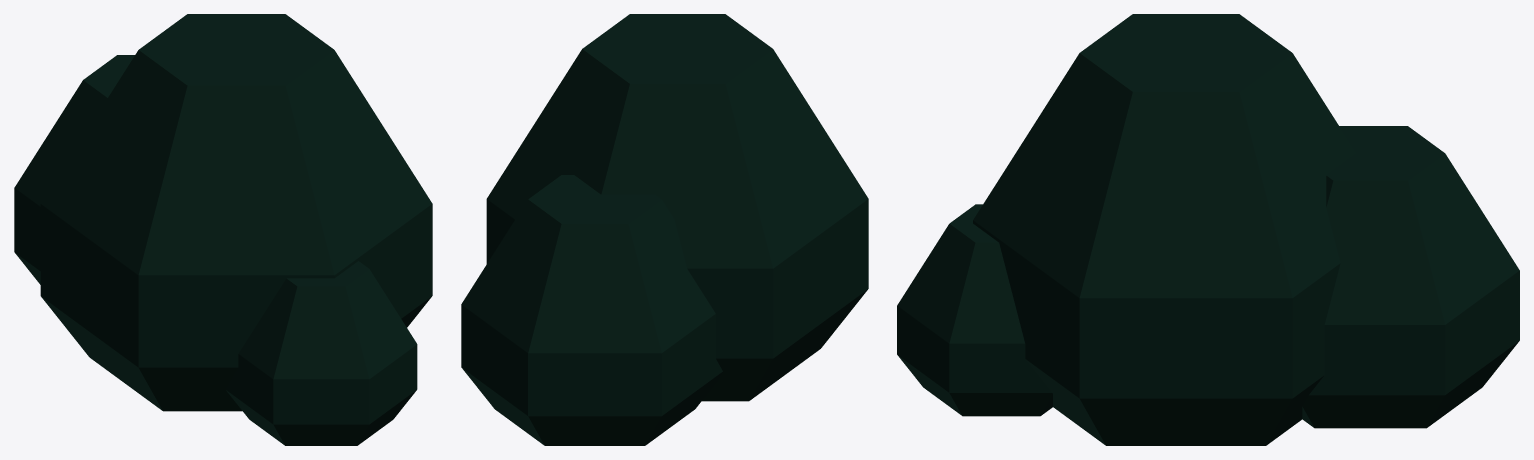
File: Bush1.fbx
3 views of the same model, side by side, from view 1: azimuth 30°, elevation 25°; view 2: azimuth 150°, elevation 25°; view 3: azimuth 270°, elevation 25° (orthographic). The views are drawn at different scales.
Visible parts, largest first — view 1: mergedBlocks; view 2: mergedBlocks; view 3: mergedBlocks.
Boxes of the visible parts, bbox=[...] form: mergedBlocks: bbox=[14, 14, 432, 445]; mergedBlocks: bbox=[461, 14, 868, 445]; mergedBlocks: bbox=[897, 14, 1519, 445].
Bounding box in the file's own units: 10 × 10 × 16.87.
